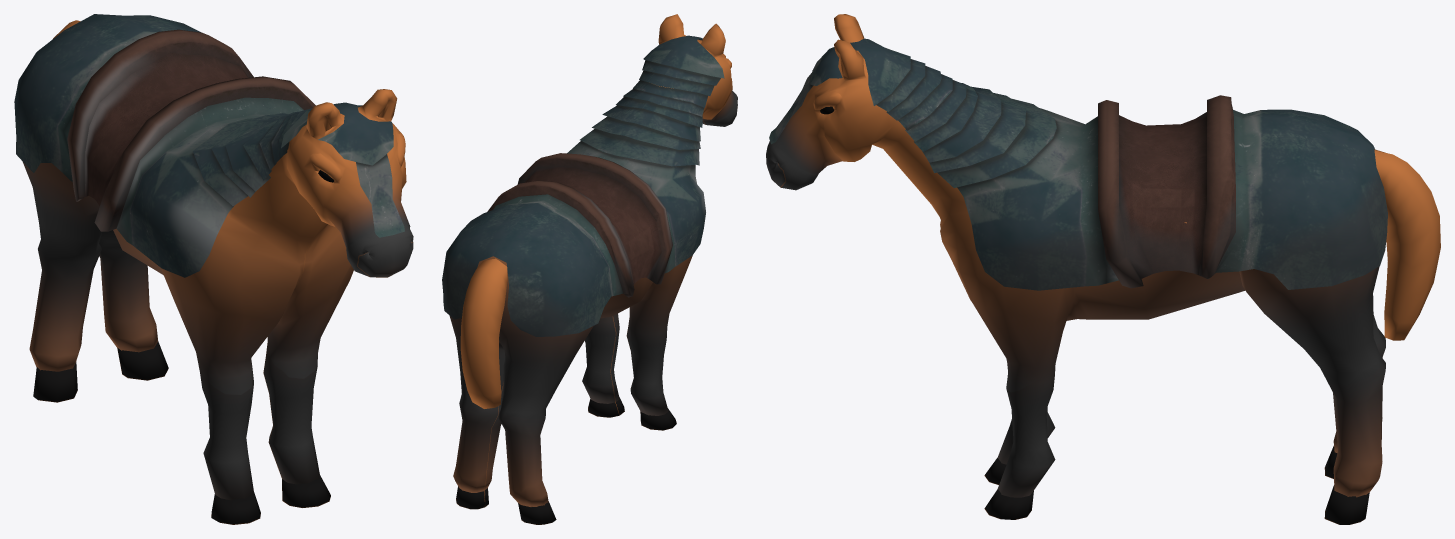
The model's file is horse armor.fbx.
3 views of the same model, side by side, from view 1: azimuth 30°, elevation 25°; view 2: azimuth 150°, elevation 25°; view 3: azimuth 270°, elevation 25° (orthographic). The views are drawn at different scales.
Visible parts, largest first — view 1: horsr, horsr.001; view 2: horsr.001, horsr; view 3: horsr.001, horsr.
Part boxes in pixels (bbox=[...]): horsr: bbox=[23, 20, 413, 524]; horsr.001: bbox=[14, 14, 404, 277]; horsr.001: bbox=[442, 35, 724, 336]; horsr: bbox=[449, 14, 737, 524]; horsr.001: bbox=[769, 38, 1387, 290]; horsr: bbox=[766, 14, 1440, 524].
Size of the model in its own units: 89.11 by 191 by 249.
